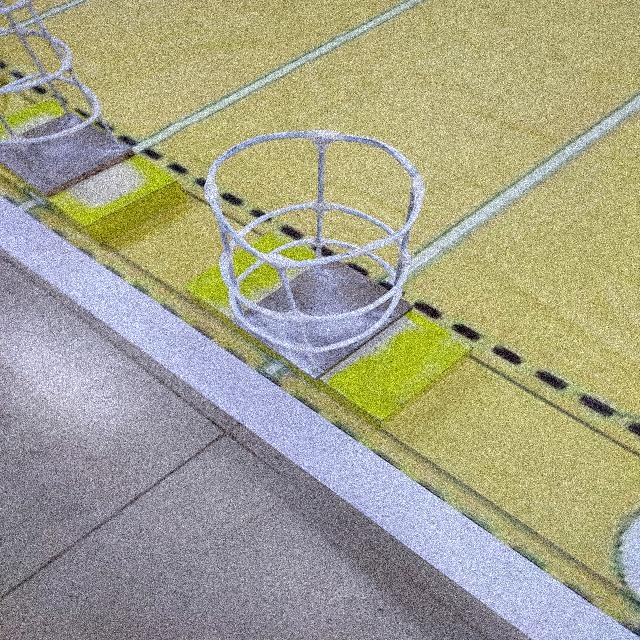silo: (197, 119, 434, 382)
